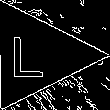L_N: (19, 30, 54, 80)
